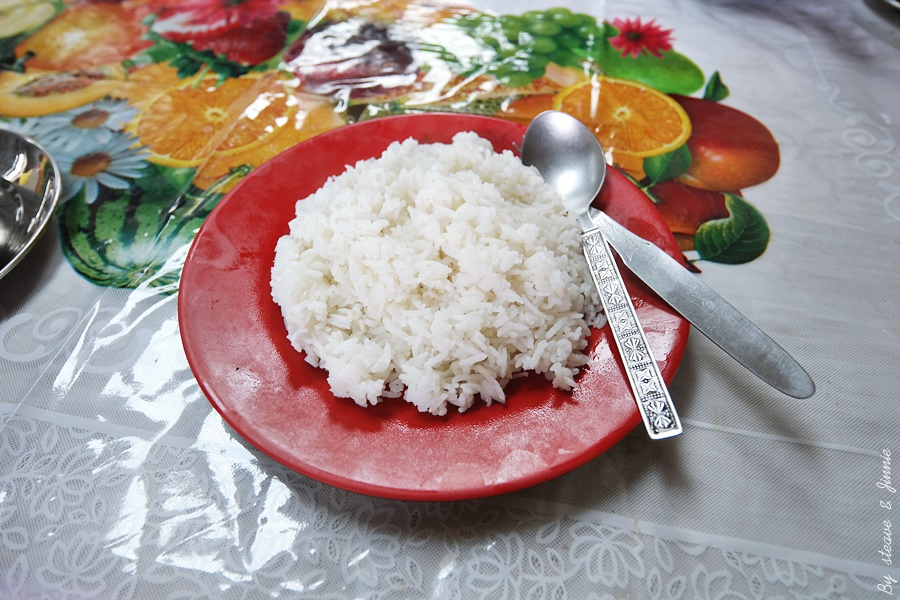plain rice: (272, 135, 610, 409)
